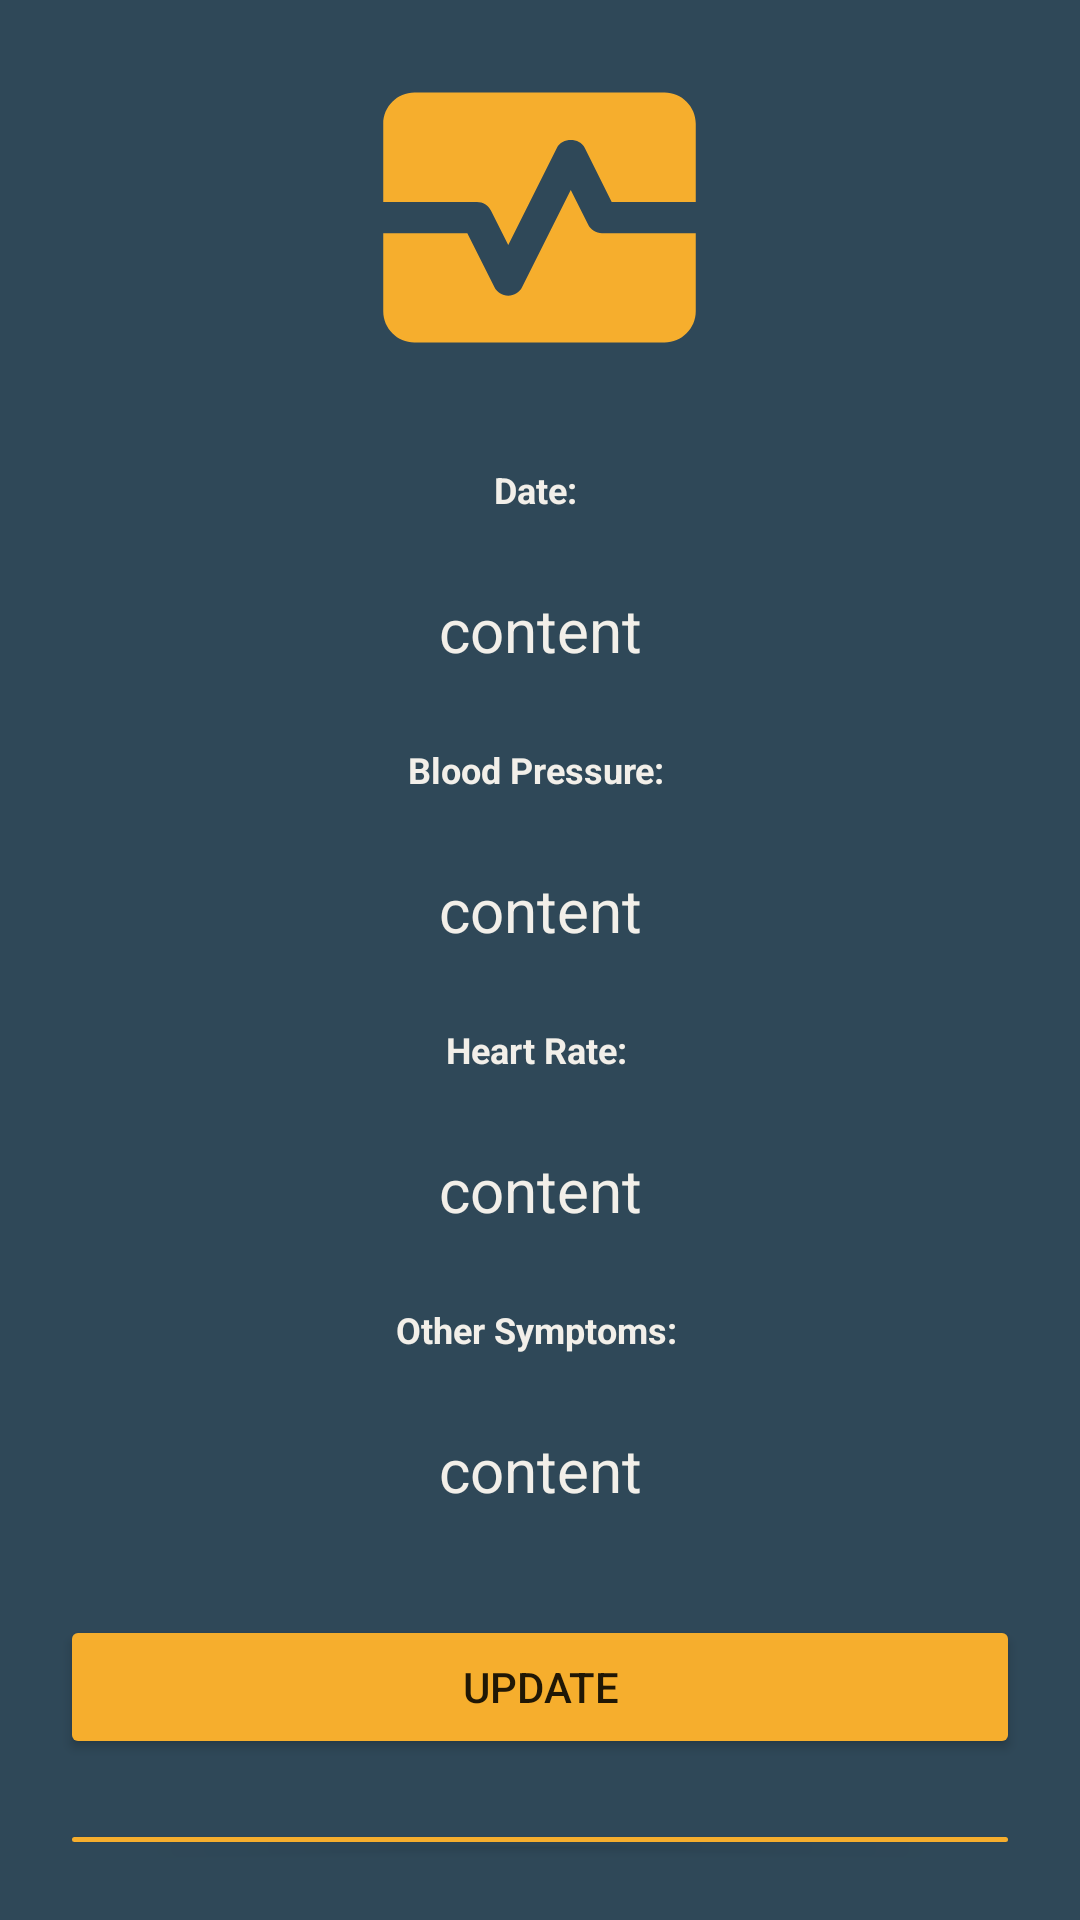

Screen size 1080×1920. Icon name, then its center in pixels as point (x, y):
heart monitor: point (539, 217)
